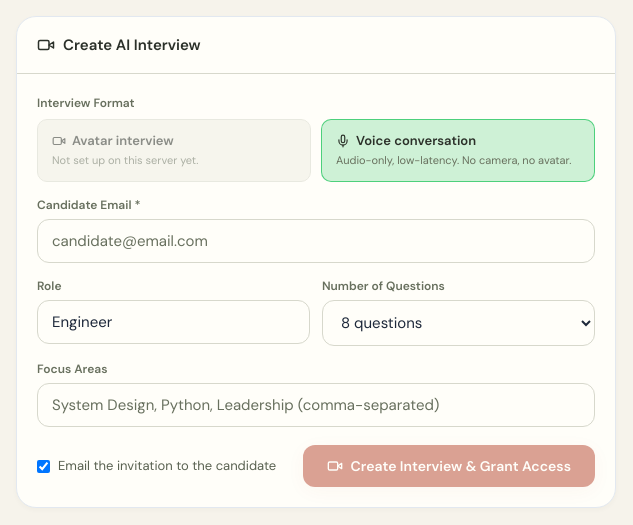
creating an interview › says why the invitation was not emailed
The width and height of the screenshot is (633, 525).
Type "ada@x.com" into the field with placeholder "candidate@email.com".
click(316, 241); type("ada@x.com")  # box [37,219,595,263]
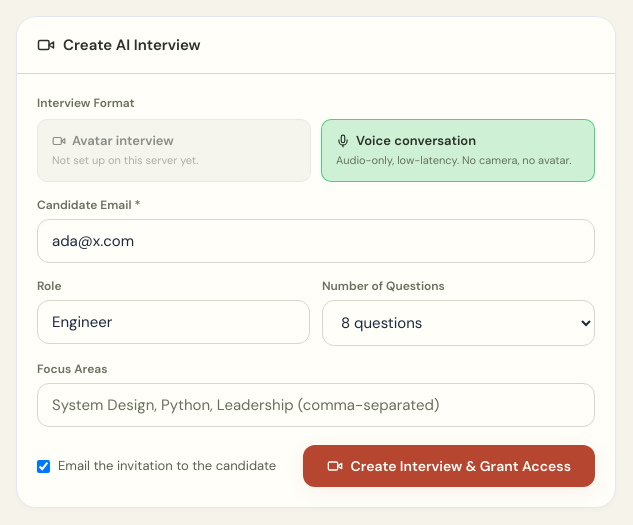
Click the button "Create Interview & Grant Access".
click(449, 466)  # box [303,445,595,487]
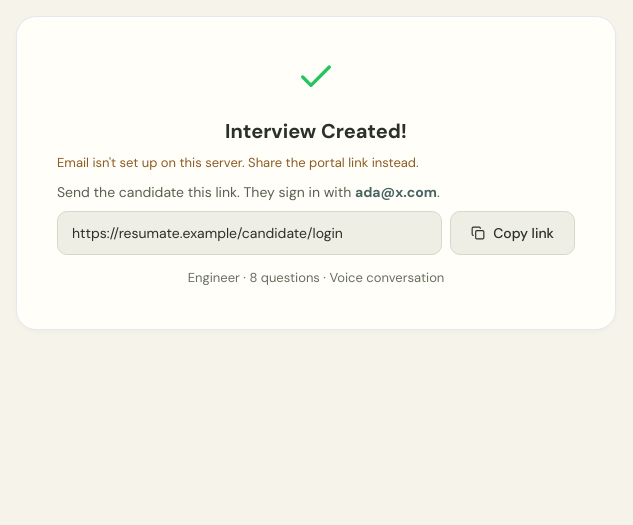
Result: the heading "Interview Created!" is shown at [225,118,407,144]
Result: the message shows "isn't set up" at [57,154,419,171]
Result: the field named "candidate sign-in link" holds "https://resumate.example/candidate/login" at [57,212,442,256]
